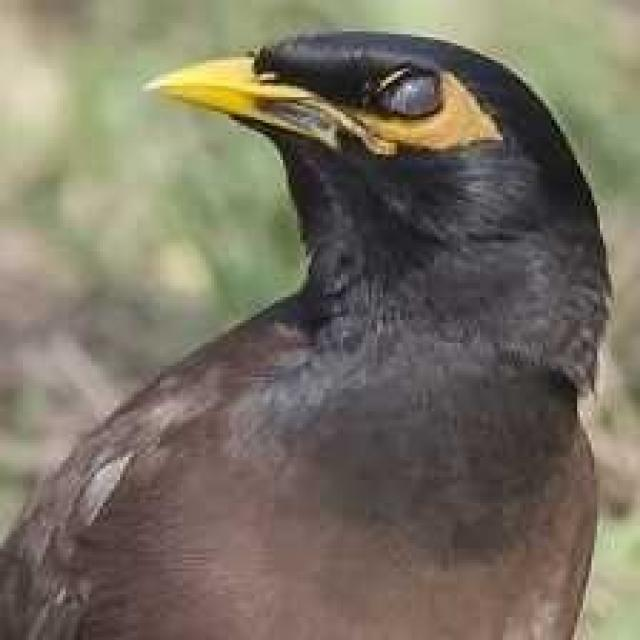bird: (4, 30, 621, 640)
